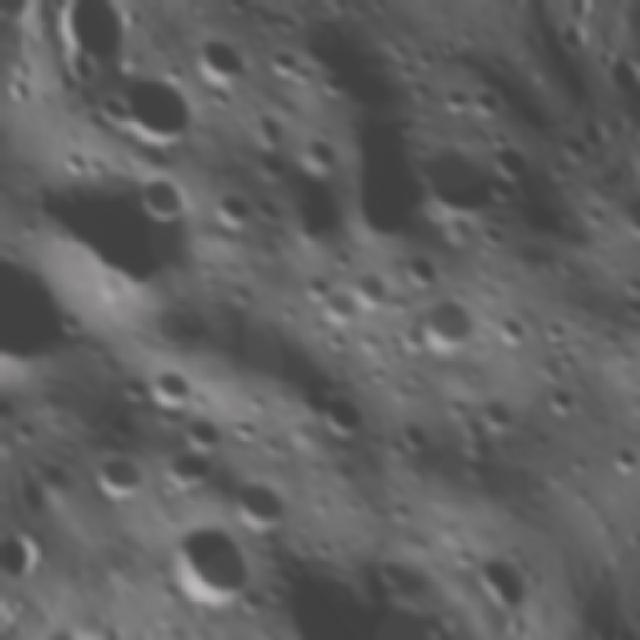crater: (18, 116, 228, 333), (296, 97, 456, 260), (0, 216, 109, 415), (404, 122, 524, 245), (95, 47, 217, 167), (148, 507, 268, 627), (404, 282, 490, 369), (300, 378, 380, 460), (218, 465, 294, 543), (179, 21, 255, 98), (78, 439, 154, 516), (126, 158, 200, 235), (153, 434, 224, 506), (139, 357, 206, 425), (477, 128, 541, 192), (288, 124, 349, 187), (458, 540, 520, 600), (168, 401, 229, 461), (363, 542, 423, 602), (82, 80, 140, 138), (382, 310, 440, 368), (474, 164, 531, 221), (532, 372, 588, 430), (483, 303, 539, 359), (466, 387, 520, 441), (238, 104, 292, 156), (462, 211, 516, 263), (458, 75, 511, 127), (205, 184, 257, 236), (527, 304, 578, 356), (50, 133, 99, 184), (257, 33, 308, 82), (292, 263, 342, 312), (316, 283, 364, 334), (391, 412, 440, 461), (597, 434, 640, 488), (250, 570, 298, 618), (112, 370, 156, 415), (314, 320, 358, 362), (228, 582, 270, 623), (385, 48, 426, 88), (312, 61, 351, 101), (398, 67, 436, 105), (406, 37, 443, 75), (326, 242, 363, 278), (270, 0, 333, 5)
